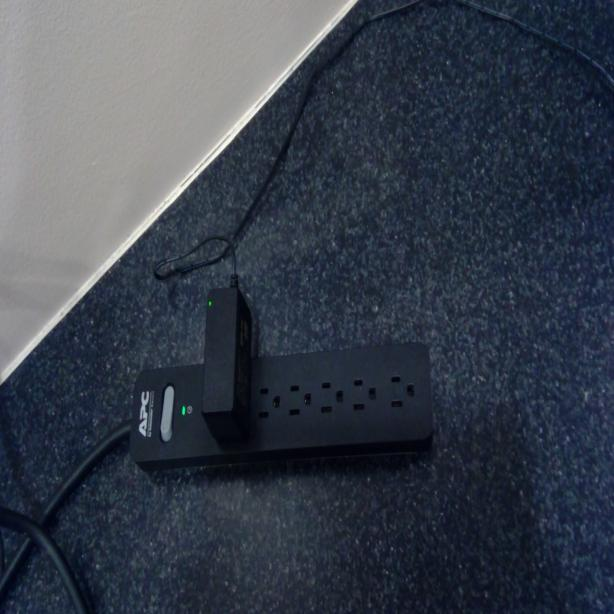typeb: (248, 373, 282, 426), (286, 374, 316, 424), (318, 374, 346, 422), (388, 371, 418, 415), (352, 374, 378, 414)
